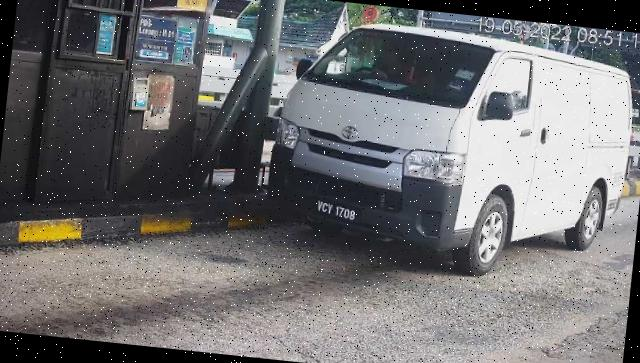License_Plate: (306, 194, 366, 231)
van: (262, 15, 640, 291)
